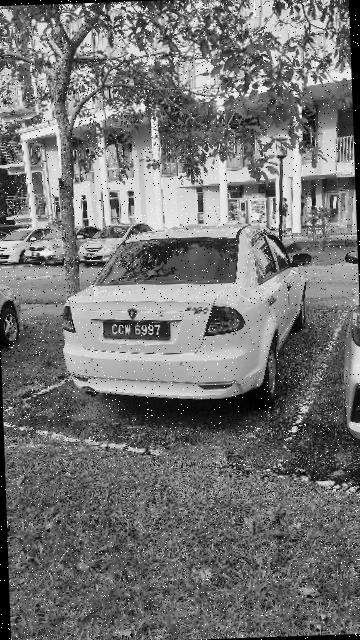License_Plate: (100, 314, 173, 345)
car: (54, 218, 318, 410), (72, 217, 159, 265), (22, 218, 86, 264), (1, 281, 26, 362), (1, 223, 44, 267)
